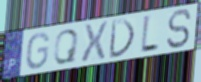D: (107, 17, 136, 60)
G: (25, 32, 51, 71)
L: (139, 14, 160, 56)
Q: (52, 28, 80, 65)
S: (165, 8, 193, 50)
X: (80, 20, 109, 65)
